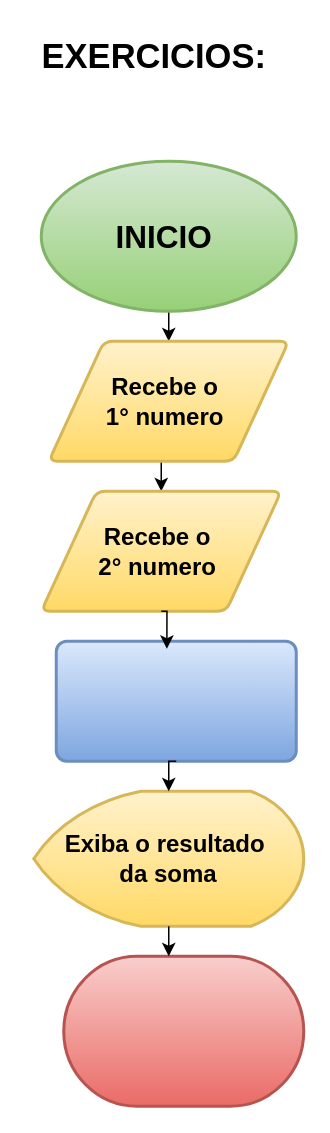
This 330x1133 diagram has some shape labels left out. Here are the shapes that lost their labels. From the top down, the centre of each, then its label:
At pixel 175 700: "Realizar soma dos n° obtidos".
At pixel 183 1030: "FIM".
